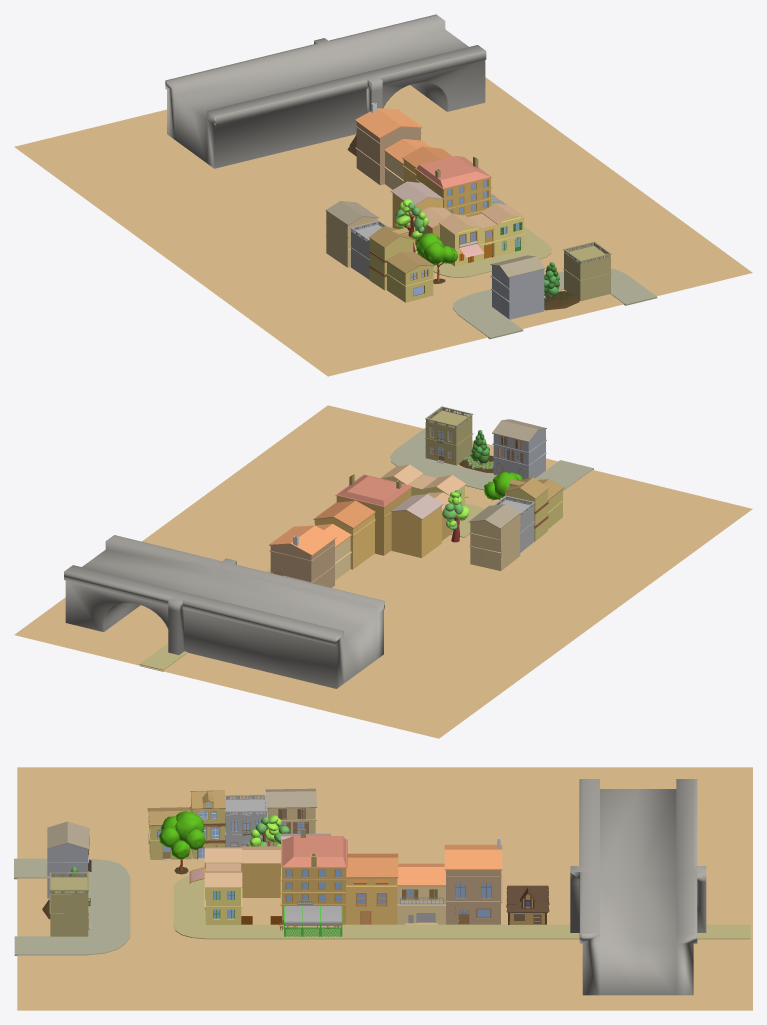
Rendered from Het gele huis.fbx.
3 views of the same model, one above another, from view 1: azimuth 30°, elevation 25°; view 2: azimuth 150°, elevation 25°; view 3: azimuth 270°, elevation 25° (orthographic). The views are drawn at different scales.
Parts seen in each view (by area): view 1: Plane, Cube.011, Cube.059, Cube.153, Cube.060, Cube.135, Cube.117, Cube.151, Cube.053, Cube.148, Cube.172, Cube.159 (+10 smaller); view 2: Plane, Cube.011, Cube.059, Cube.172, Cube.135, Cube.147, Cube.060, Cube.153, Cube.151, Cube.097, Cube.053, Cube.159 (+8 smaller); view 3: Plane, Cube.011, Cube.117, Cube.059, Cube.135, Cube.060, Cube.053, Cube.151, Cube.097, simple tree001.025, Cube.159, Cube.156 (+22 smaller).
Part boxes in pixels (x1,y1,x2,y2): Plane: (14,77,752,376); Cube.011: (165,14,486,168); Cube.059: (452,268,657,339); Cube.153: (490,265,545,319); Cube.060: (563,246,611,301); Cube.135: (355,122,421,185); Cube.117: (433,226,551,277); Cube.151: (414,156,491,189); Cube.053: (415,170,492,216); Cube.148: (386,262,433,302); Cube.172: (326,211,377,267); Cube.159: (355,108,422,138); Plane: (14,405,752,738); Cube.011: (64,535,384,688); Cube.059: (390,428,593,490); Cube.172: (469,514,520,570); Cube.135: (269,539,335,587); Cube.147: (391,506,441,558); Cube.060: (425,410,473,465); Cube.153: (492,429,546,479); Cube.151: (335,474,412,507); Cube.097: (314,513,375,569); Cube.053: (336,488,411,555); Cube.159: (269,525,336,555); Plane: (17,767,752,1010); Cube.011: (570,779,706,995); Cube.117: (173,876,750,939); Cube.059: (14,858,130,955); Cube.135: (446,870,502,924); Cube.060: (49,877,88,936); Cube.053: (280,868,346,924); Cube.151: (281,836,347,867); Cube.097: (346,878,397,924); simple tree001.025: (159,811,205,859); Cube.159: (444,844,502,870); Cube.156: (346,853,398,878).
Size of the model in its own units: 28196 by 4103 by 36237.
